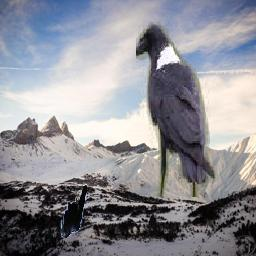Crow: (136, 23, 216, 198), (61, 182, 88, 238)
